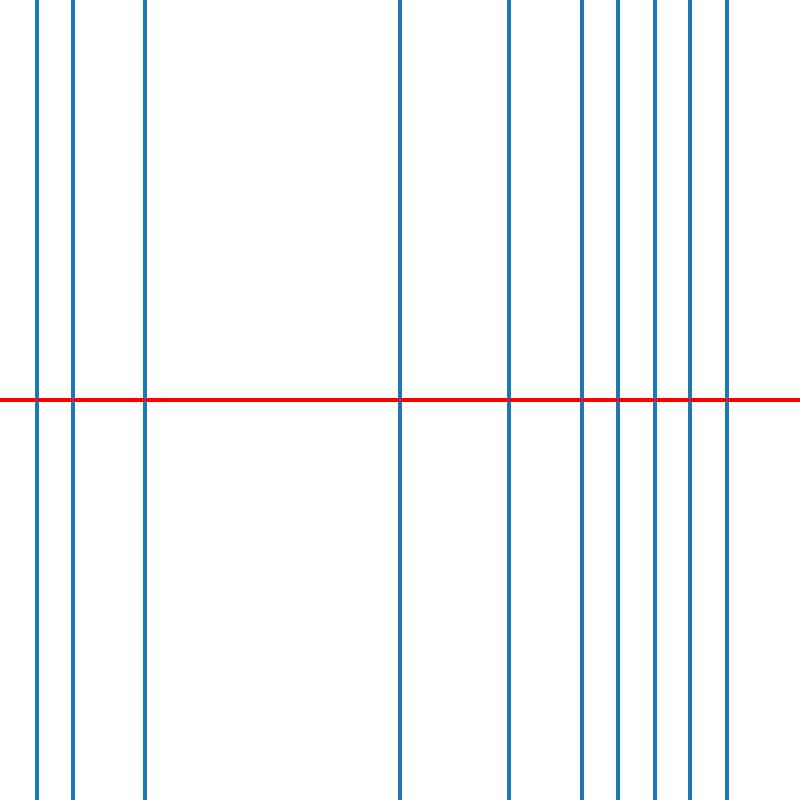root: (32, 396, 40, 404), (650, 396, 658, 404), (141, 396, 149, 404), (505, 396, 512, 404), (578, 396, 585, 404), (396, 396, 403, 404), (723, 396, 730, 404), (614, 396, 621, 404), (687, 396, 694, 404), (69, 396, 76, 404)
